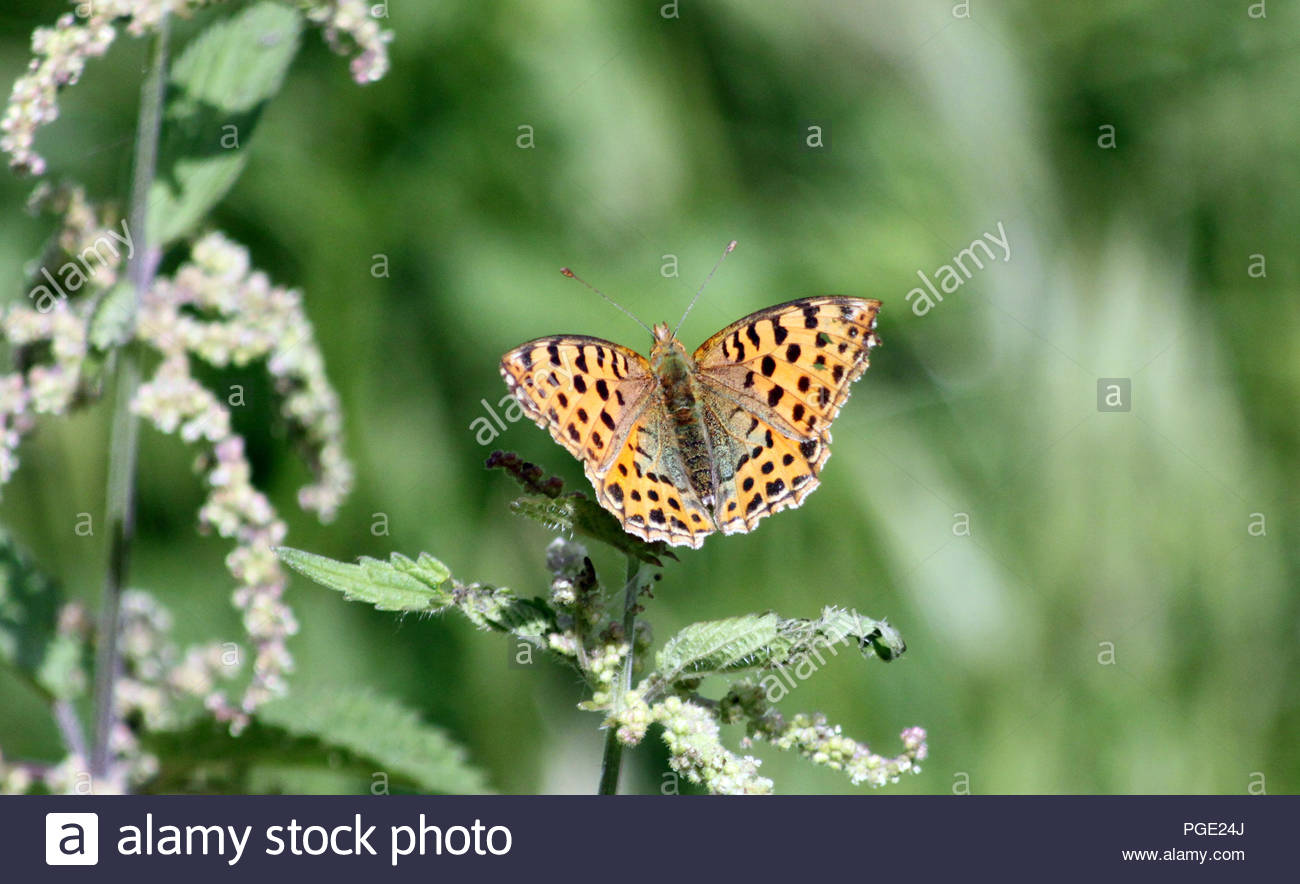Argyreus hyperbius: (499, 236, 897, 548)
butterfly: (497, 234, 895, 546)
